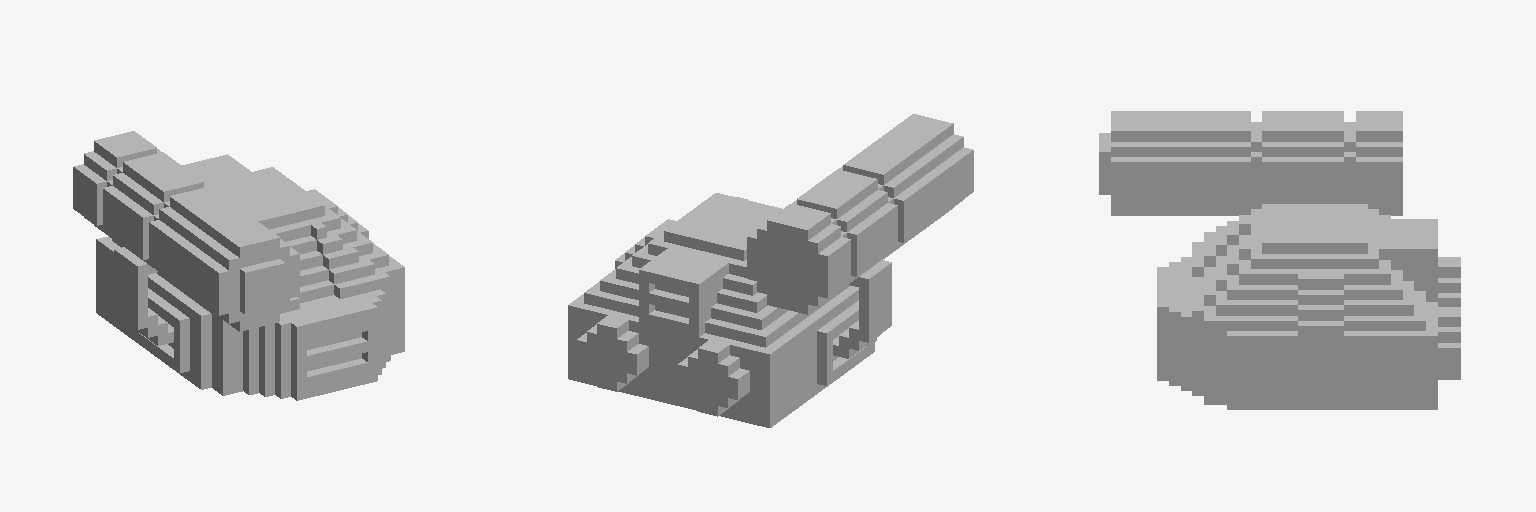
File: Gun.obj
The picture shows the model from 3 angles: view 1: azimuth 30°, elevation 25°; view 2: azimuth 150°, elevation 25°; view 3: azimuth 270°, elevation 25°; orthographic projection.
Size of the model in its own units: 24 by 18 by 31.